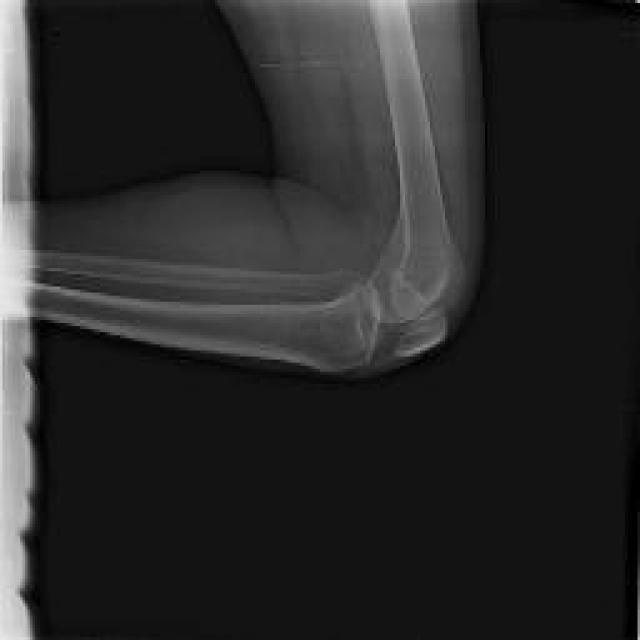normal: (27, 253, 381, 375), (359, 0, 464, 358)
